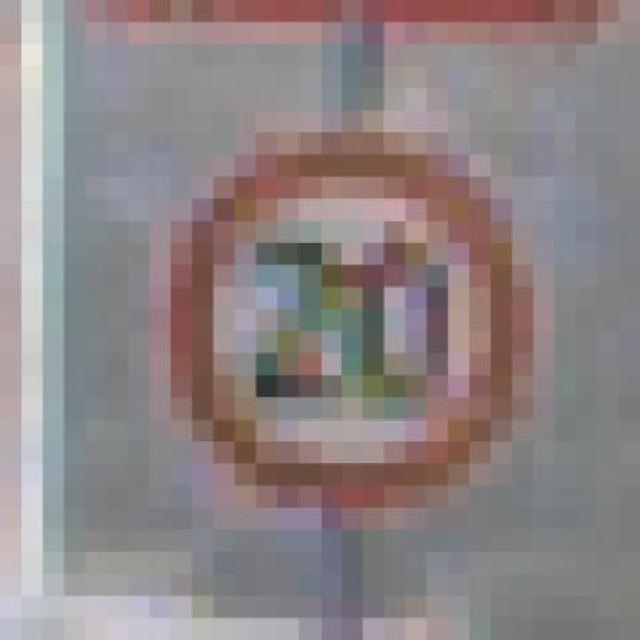Speed Limit 20 KMPh: (107, 110, 576, 508)
